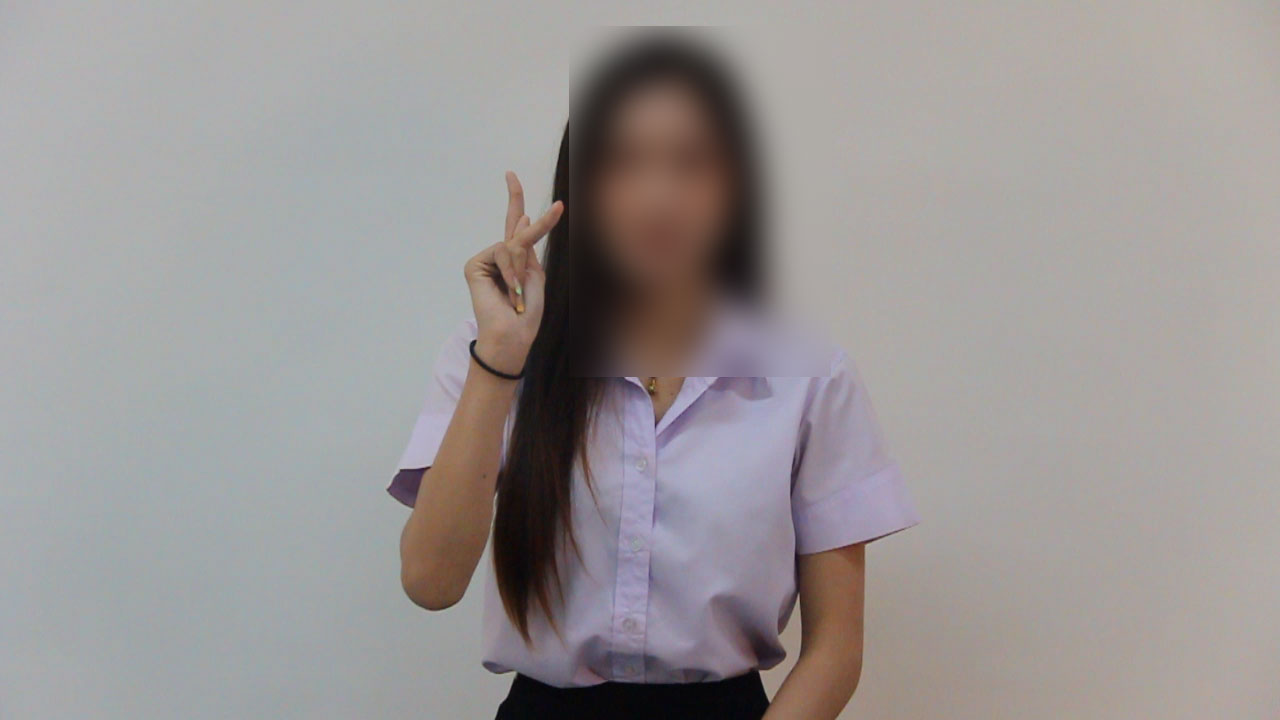ko: (435, 162, 571, 354)
